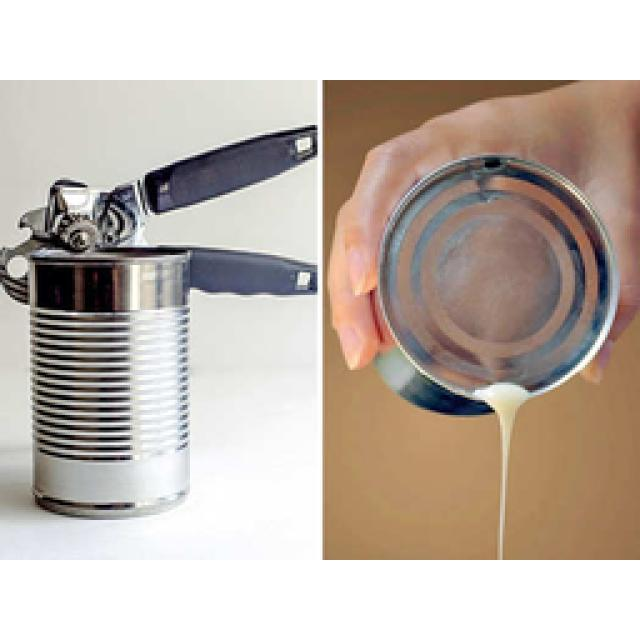alumunium: (378, 158, 615, 405), (32, 248, 188, 512)
